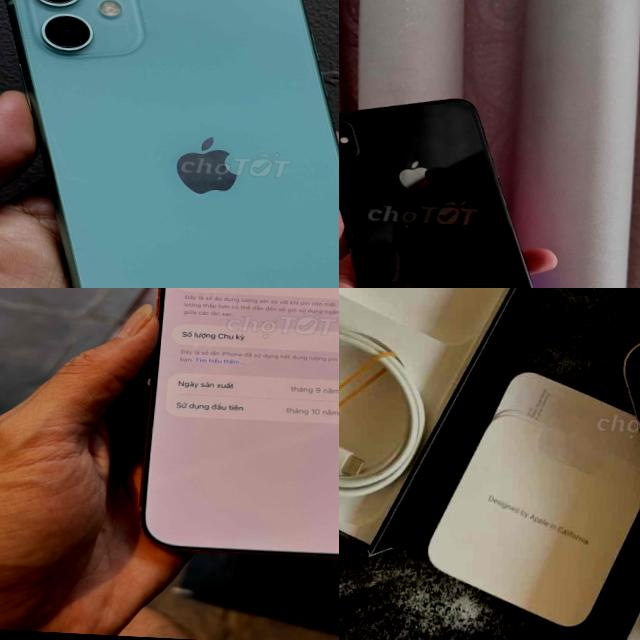gen_11: (7, 0, 339, 288)
gen_17: (130, 288, 339, 571)
gen_x_xs: (339, 88, 563, 288)
